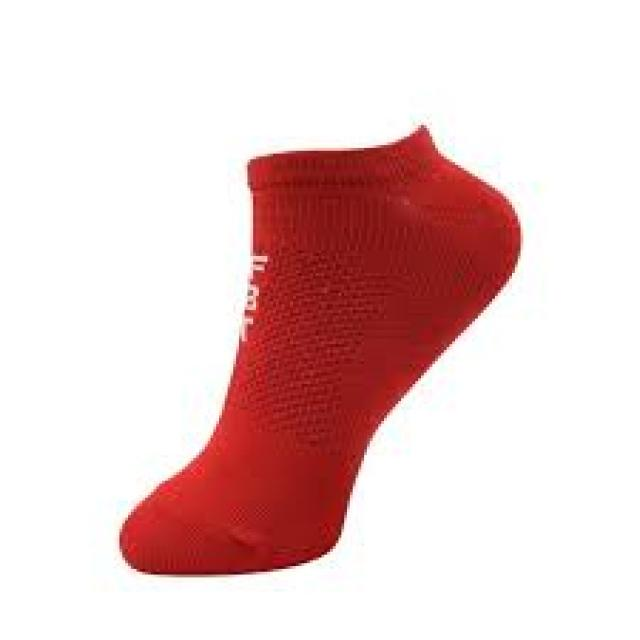sock: (117, 122, 520, 575)
